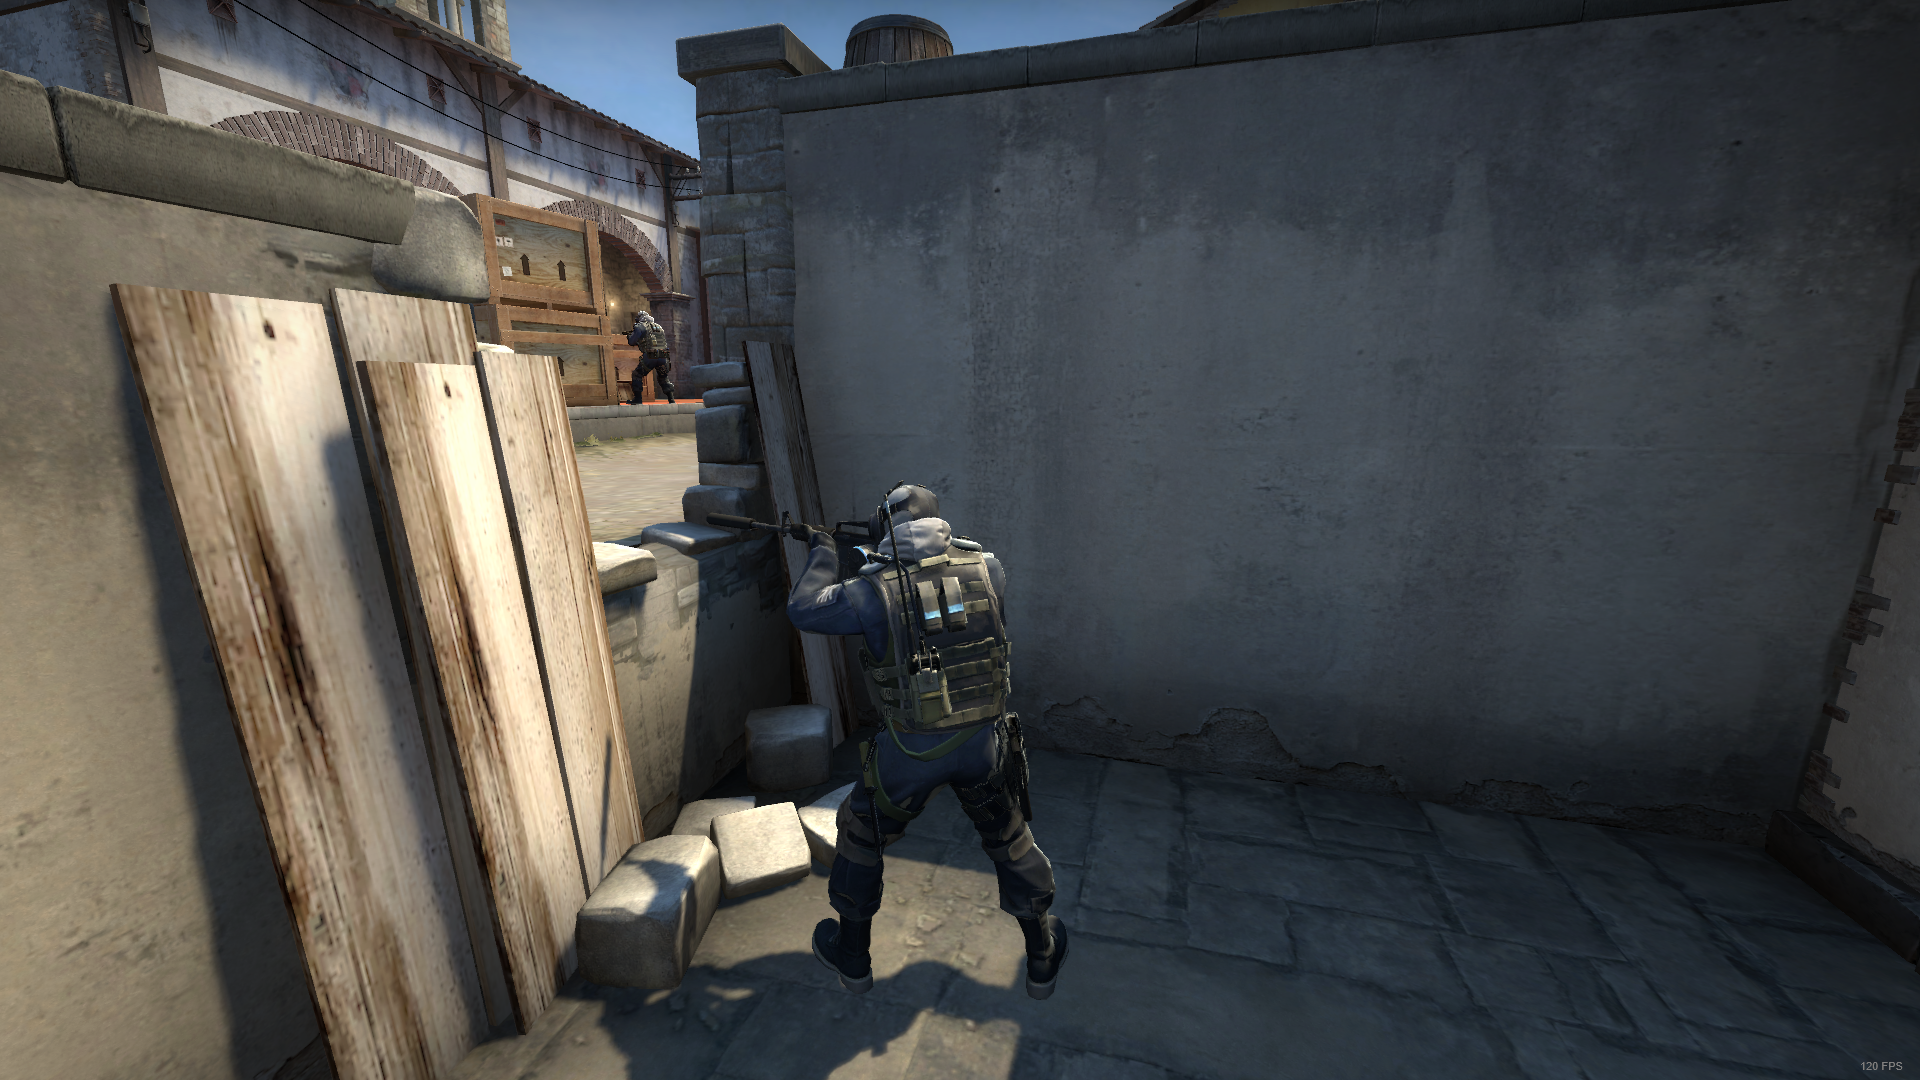ct: (785, 476, 1102, 1013), (615, 305, 680, 411)
